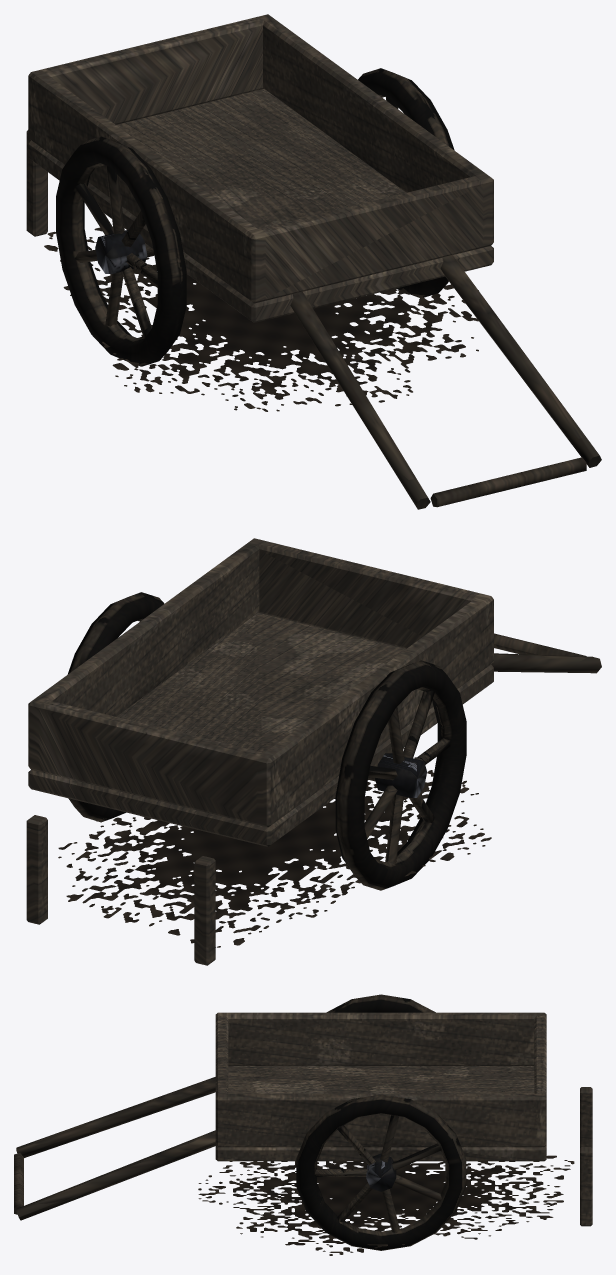
Rendered from cart.glb.
The picture shows the model from 3 angles, top to bottom: view 1: azimuth 30°, elevation 25°; view 2: azimuth 150°, elevation 25°; view 3: azimuth 270°, elevation 25°; orthographic projection. The views are drawn at different scales.
Parts seen in each view (by area): view 1: cart; view 2: cart; view 3: cart.
Boxes of the visible parts, left/top/right/bottom form: cart: left=26, top=14, right=601, bottom=509; cart: left=26, top=538, right=601, bottom=965; cart: left=14, top=994, right=592, bottom=1255.
Size of the model in its own units: 1.64 by 0.8541 by 2.91.
Materials: 2 (2 with a texture image).
